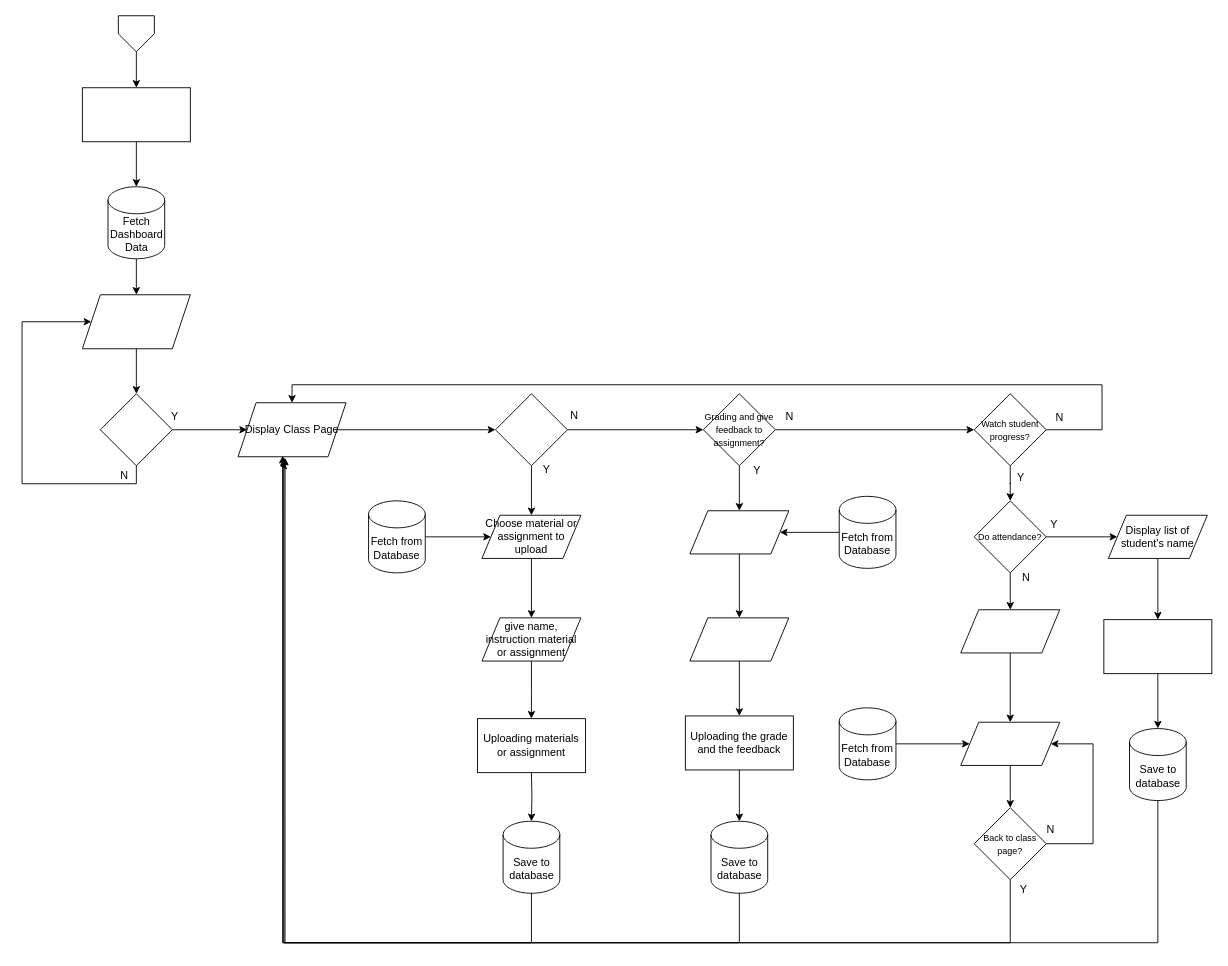
Some shapes in this 1228 by 966 pixel diagram are drawn without their labels. Here are the shapes that lost their labels. From the top down, the centre of each, then its label:
At (x=135, y=114): "Teacher Dashboard".
At (x=135, y=321): "Display Teacher Dashboard".
At (x=135, y=429): "Select this Subject and class?".
At (x=531, y=429): "Upload materials or assignments?".
At (x=739, y=532): "Choose student's assignment".
At (x=739, y=639): "Input grade and give feeadback".
At (x=1010, y=631): "Choose student's name".
At (x=1157, y=646): "checklist if the student is present sick, or not present".
At (x=1010, y=743): "Display student's progress in class".
